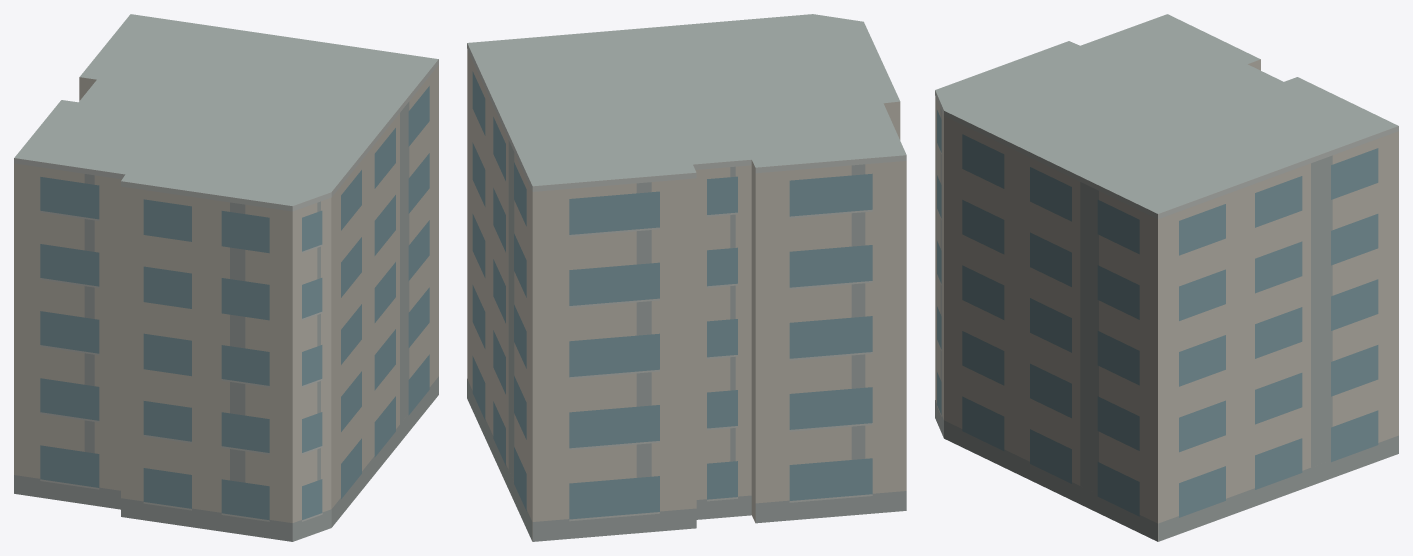
File: survey-upis-32944478.glb
3 views of the same model, side by side, from view 1: azimuth 30°, elevation 25°; view 2: azimuth 150°, elevation 25°; view 3: azimuth 270°, elevation 25° (orthographic). The views are drawn at different scales.
Parts seen in each view (by area): view 1: survey-upis-32944478.tmp; view 2: survey-upis-32944478.tmp; view 3: survey-upis-32944478.tmp.
Boxes of the visible parts, x1,y1,x2,y2 form: survey-upis-32944478.tmp: [14, 14, 438, 541]; survey-upis-32944478.tmp: [467, 14, 906, 541]; survey-upis-32944478.tmp: [935, 14, 1398, 541].
Bounding box in the file's own units: 19.97 × 15.25 × 19.56.
